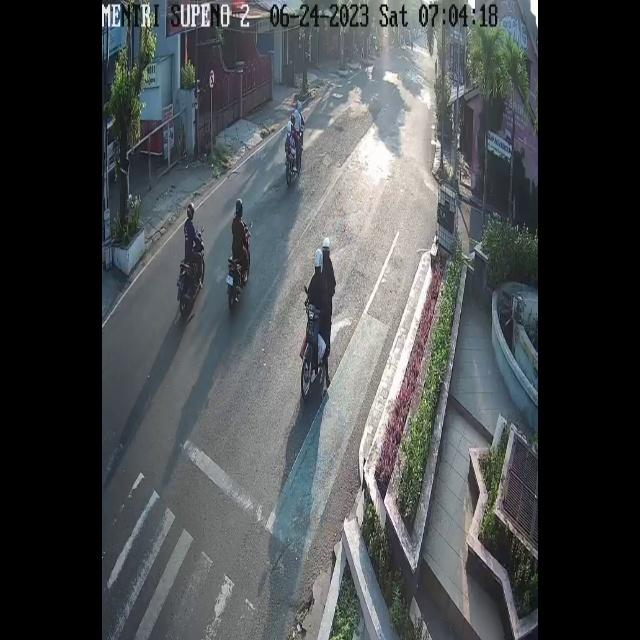bus: (176, 228, 206, 318), (226, 220, 251, 310), (300, 304, 321, 400), (285, 131, 302, 187)
